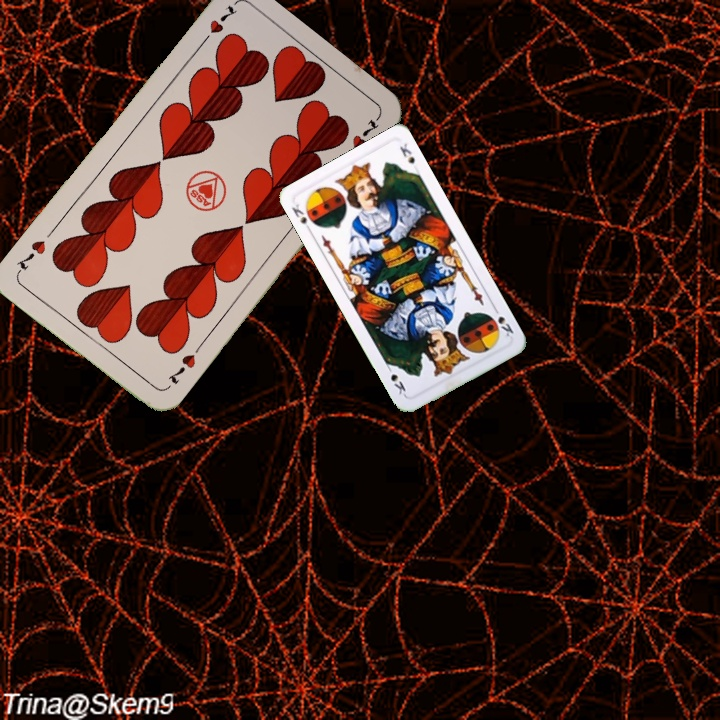H7: (196, 1, 240, 49), (163, 341, 204, 387)
SK: (489, 302, 516, 339), (288, 199, 315, 235)
